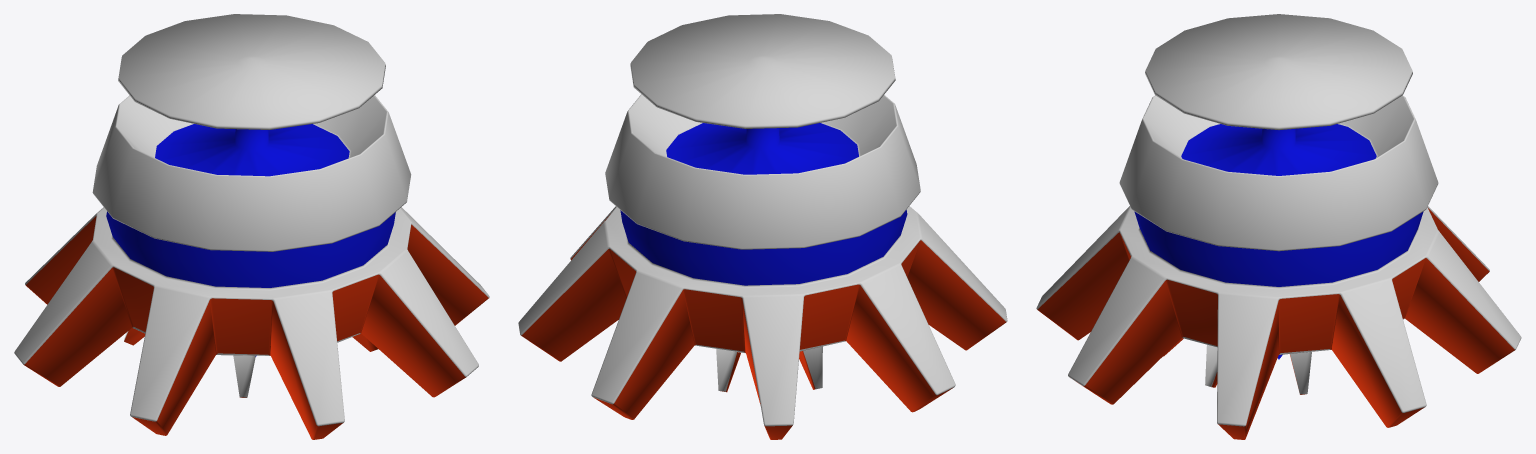
File: RingDude.fbx
3 renders of one model, left to right at view 1: azimuth 30°, elevation 25°; view 2: azimuth 150°, elevation 25°; view 3: azimuth 270°, elevation 25°, orthographic.
Visible parts, largest first — view 1: Sphere; view 2: Sphere; view 3: Sphere.
Part boxes in pixels (x1,y1,x2,y2): Sphere: (14, 14, 489, 439); Sphere: (518, 14, 1007, 439); Sphere: (1036, 14, 1521, 439).
Size of the model in its own units: 288 by 197 by 288.
